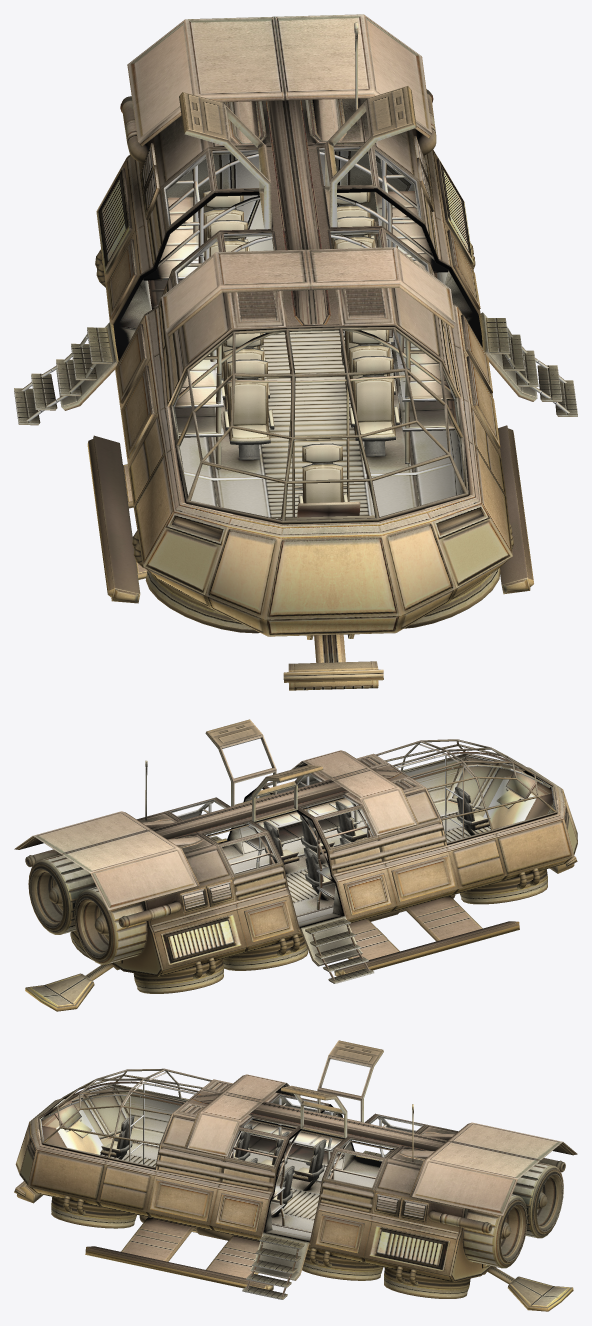
File: shuttle.obj
3 renders of one model, top to bottom at view 1: azimuth 30°, elevation 25°; view 2: azimuth 150°, elevation 25°; view 3: azimuth 270°, elevation 25°, orthographic. The views are drawn at different scales.
Visible parts, largest first — view 1: Shuttle.002_Cube.006, Shuttle.013_Cube.012, Shuttle.011_Cube.010, Shuttle.010_Cube.009, Shuttle.012_Cube.011, Shuttle.009_Cube.008, Shuttle.008_Cube.007, Shuttle.015_Cube.014, Shuttle.024_Cube.032; view 2: Shuttle.002_Cube.006, Shuttle.013_Cube.012, Shuttle.024_Cube.032, Shuttle.009_Cube.008, Shuttle.010_Cube.009, Shuttle.015_Cube.014, Shuttle.011_Cube.010, Shuttle.008_Cube.007, Shuttle.012_Cube.011; view 3: Shuttle.002_Cube.006, Shuttle.013_Cube.012, Shuttle.009_Cube.008, Shuttle.024_Cube.032, Shuttle.010_Cube.009, Shuttle.015_Cube.014, Shuttle.011_Cube.010, Shuttle.008_Cube.007, Shuttle.012_Cube.011.
Boxes of the visible parts, bbox=[...] form: Shuttle.002_Cube.006: bbox=[96, 14, 512, 639]; Shuttle.013_Cube.012: bbox=[113, 147, 482, 524]; Shuttle.011_Cube.010: bbox=[21, 151, 569, 519]; Shuttle.010_Cube.009: bbox=[14, 22, 577, 425]; Shuttle.012_Cube.011: bbox=[203, 190, 399, 503]; Shuttle.009_Cube.008: bbox=[87, 425, 533, 690]; Shuttle.008_Cube.007: bbox=[170, 327, 468, 524]; Shuttle.015_Cube.014: bbox=[95, 243, 513, 633]; Shuttle.024_Cube.032: bbox=[120, 89, 436, 163]; Shuttle.002_Cube.006: bbox=[14, 750, 577, 976]; Shuttle.013_Cube.012: bbox=[170, 755, 558, 928]; Shuttle.024_Cube.032: bbox=[25, 849, 181, 964]; Shuttle.009_Cube.008: bbox=[25, 856, 577, 1011]; Shuttle.010_Cube.009: bbox=[116, 719, 374, 983]; Shuttle.015_Cube.014: bbox=[70, 868, 547, 993]; Shuttle.011_Cube.010: bbox=[202, 744, 550, 980]; Shuttle.008_Cube.007: bbox=[375, 739, 557, 844]; Shuttle.012_Cube.011: bbox=[263, 787, 490, 899]; Shuttle.002_Cube.006: bbox=[15, 1074, 577, 1282]; Shuttle.013_Cube.012: bbox=[37, 1086, 423, 1242]; Shuttle.009_Cube.008: bbox=[14, 1181, 573, 1311]; Shuttle.024_Cube.032: bbox=[428, 1158, 565, 1268]; Shuttle.010_Cube.009: bbox=[242, 1040, 489, 1299]; Shuttle.015_Cube.014: bbox=[51, 1196, 496, 1298]; Shuttle.011_Cube.010: bbox=[42, 1072, 393, 1296]; Shuttle.008_Cube.007: bbox=[38, 1068, 211, 1168]; Shuttle.012_Cube.011: bbox=[100, 1115, 326, 1217].
Size of the model in its own units: 12.81 by 6.61 by 18.01.
Materials: 11 (11 with a texture image).
